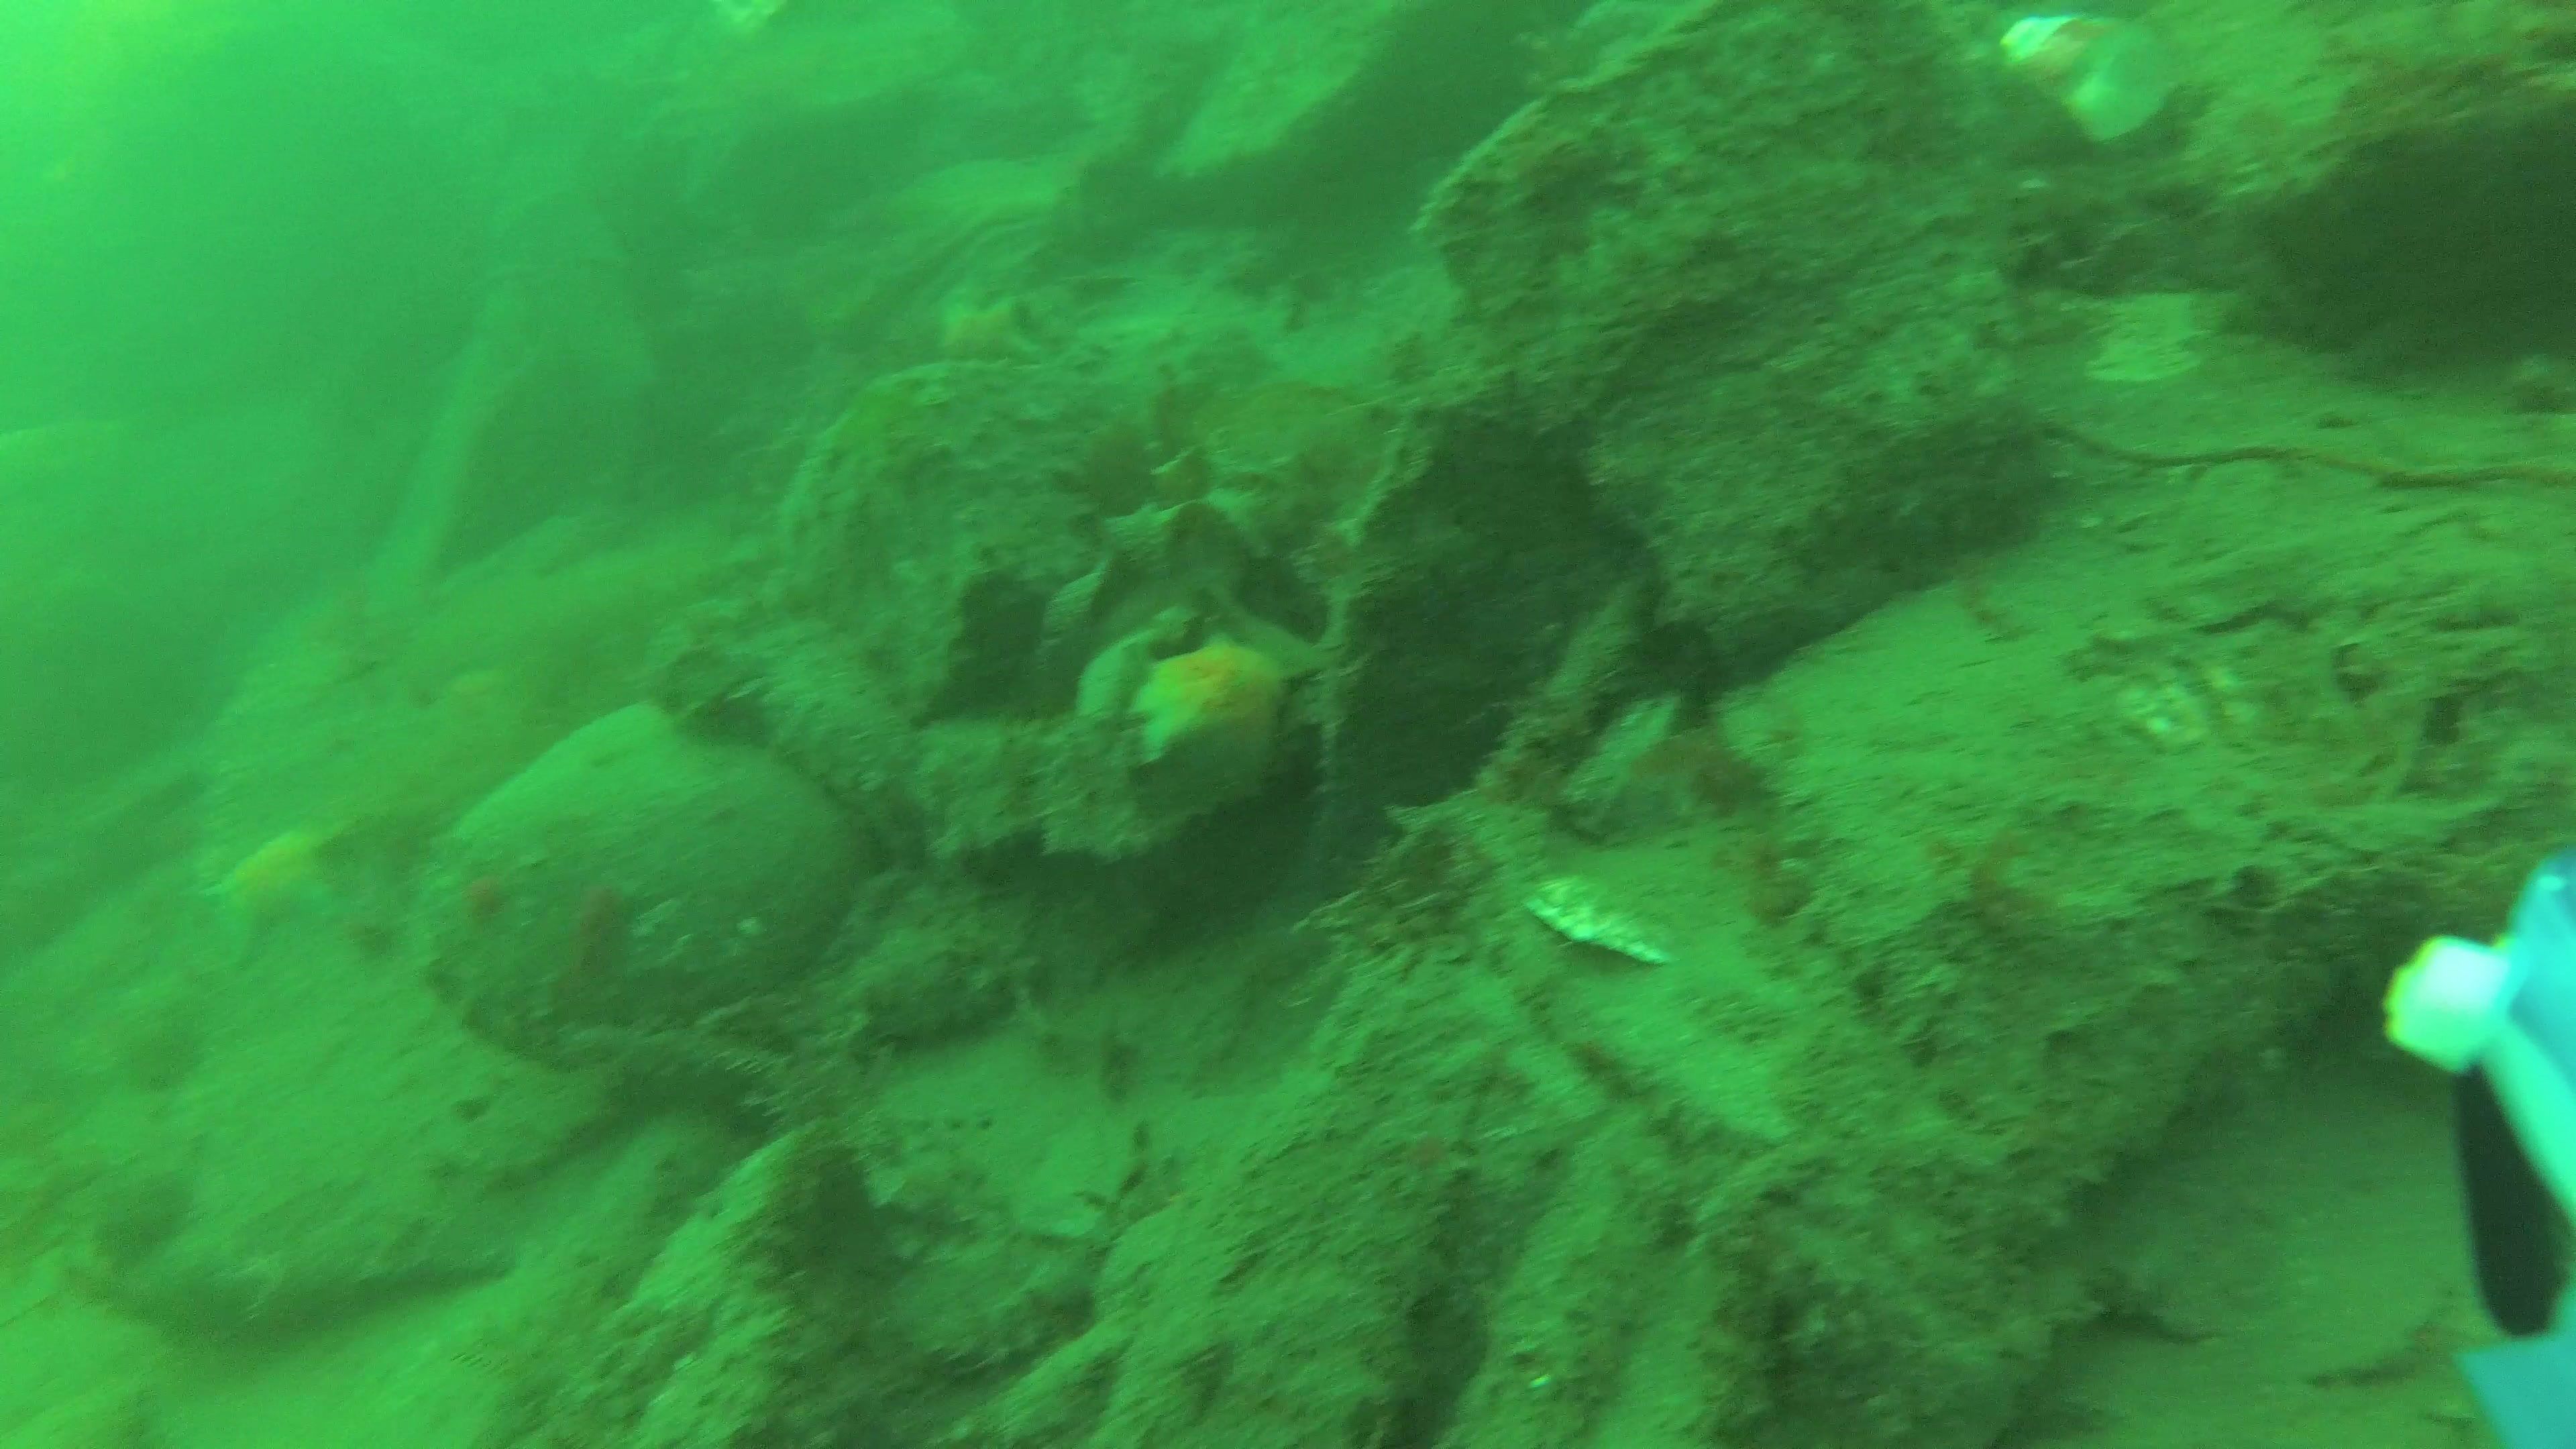holothurian: (660, 625, 924, 844)
scallop: (1522, 856, 1677, 970), (936, 287, 1037, 375)
starfish: (1138, 630, 1284, 778), (203, 826, 354, 955)
